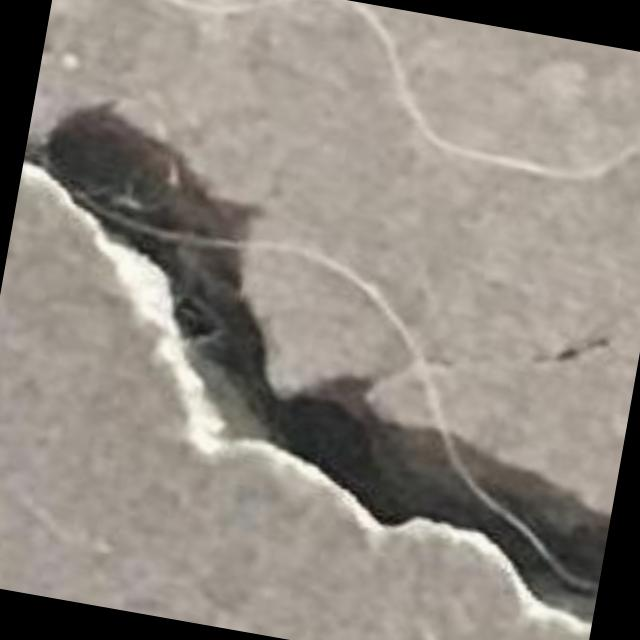crack: (23, 103, 610, 624)
